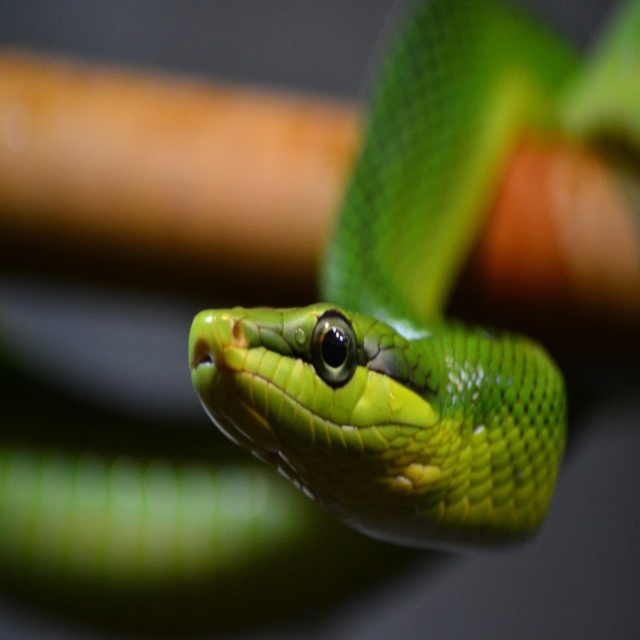Snake: (0, 0, 639, 608)
